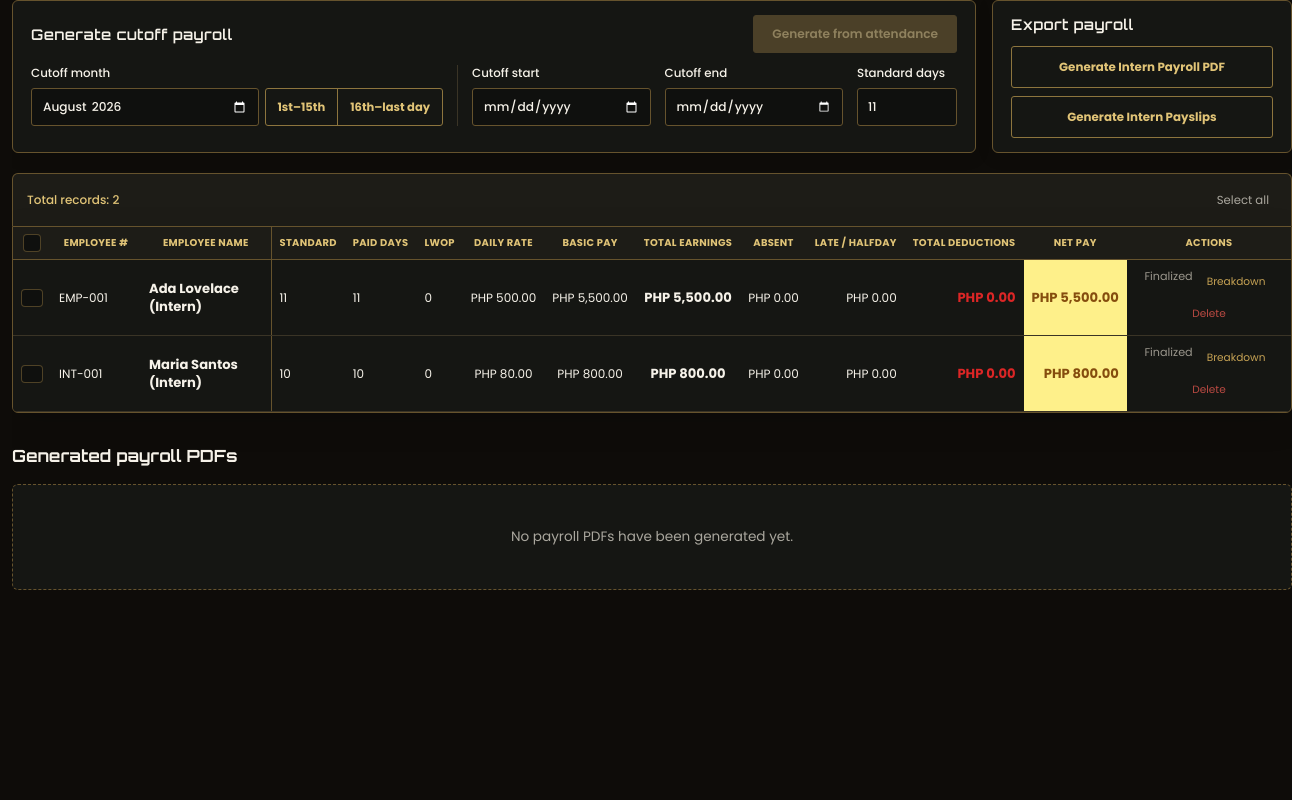
Scenario: PayrollWorkspace › generates an intern payroll PDF with the intern worker type
The width and height of the screenshot is (1292, 800).
Click the button "Generate Intern Payroll PDF" at (1142, 67), box [1011,46,1273,88]
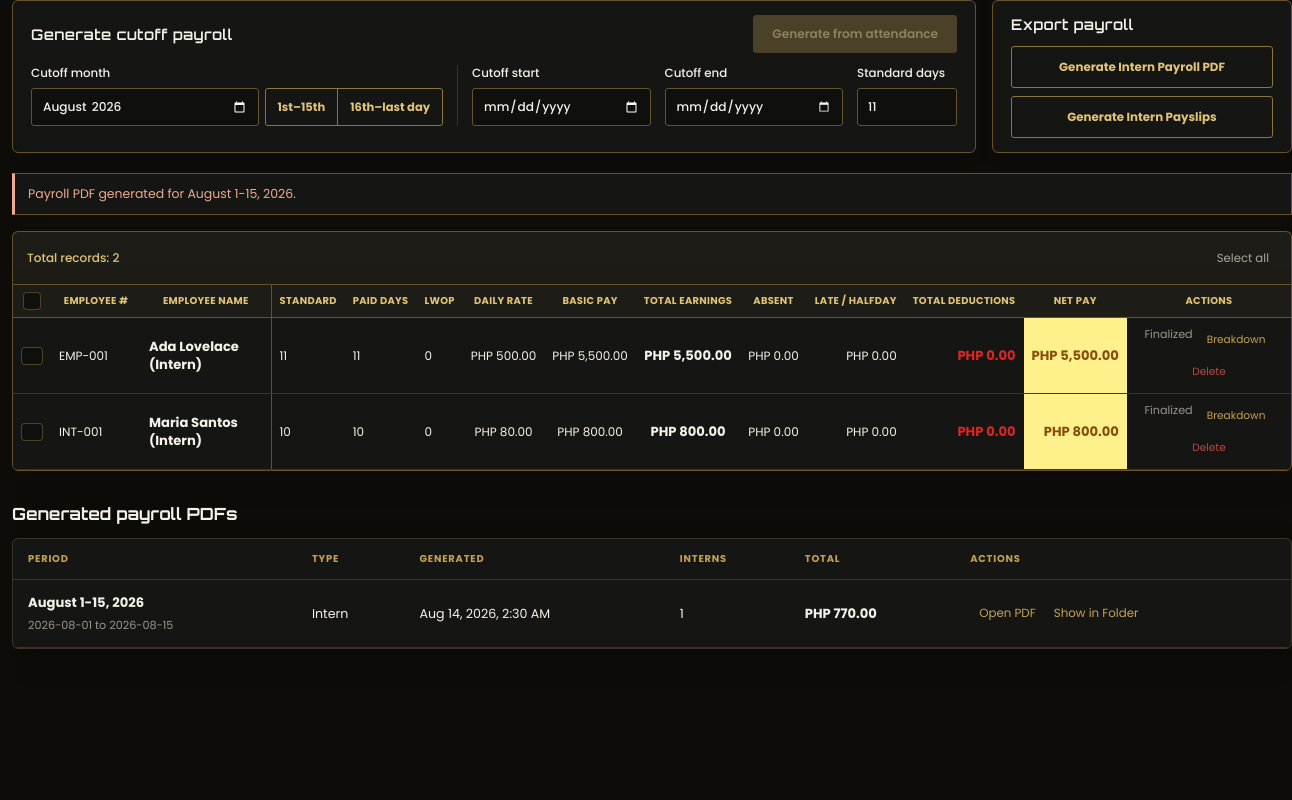
Check: the text "Payroll PDF generated for August 1-15, 2026." is shown, box [12,173,1291,215]
